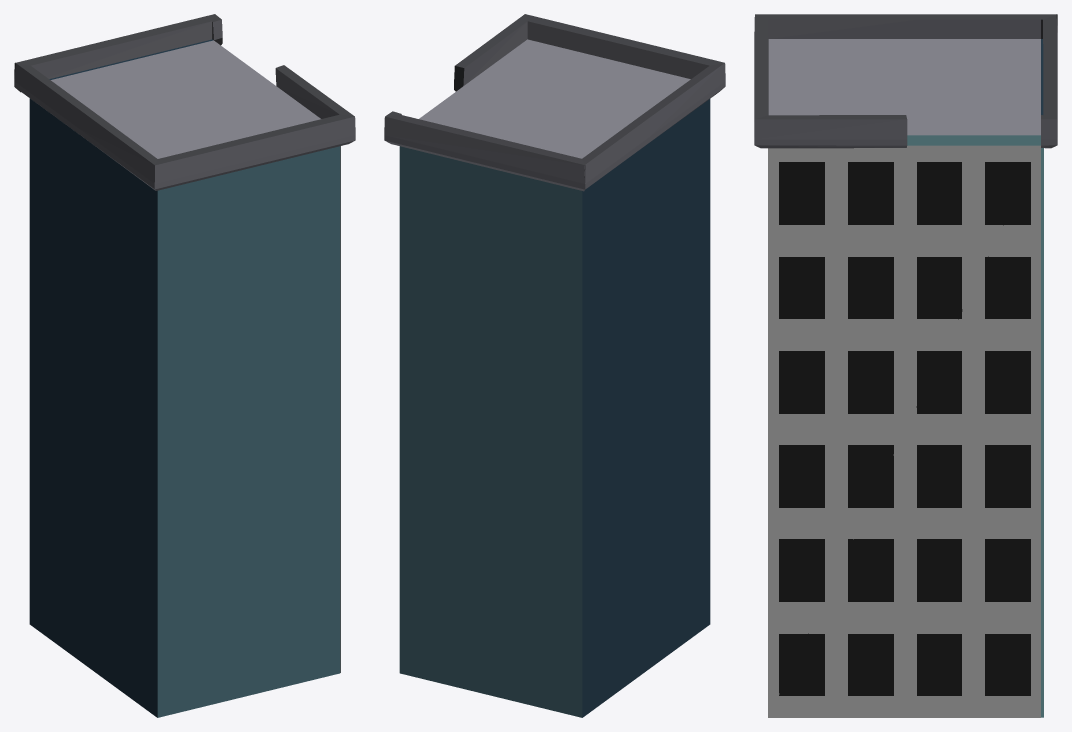
The model's file is building(stairs) 1.fbx.
The picture shows the model from 3 angles, left to right: view 1: azimuth 30°, elevation 25°; view 2: azimuth 150°, elevation 25°; view 3: azimuth 270°, elevation 25°; orthographic projection. The views are drawn at different scales.
Parts seen in each view (by area): view 1: pCube218; view 2: pCube218; view 3: pCube218.
Boxes of the visible parts, x1,y1,x2,y2 form: pCube218: (14, 14, 355, 717); pCube218: (384, 14, 725, 717); pCube218: (754, 14, 1057, 717).
Bounding box in the file's own units: 31.61 × 84.05 × 38.31.
